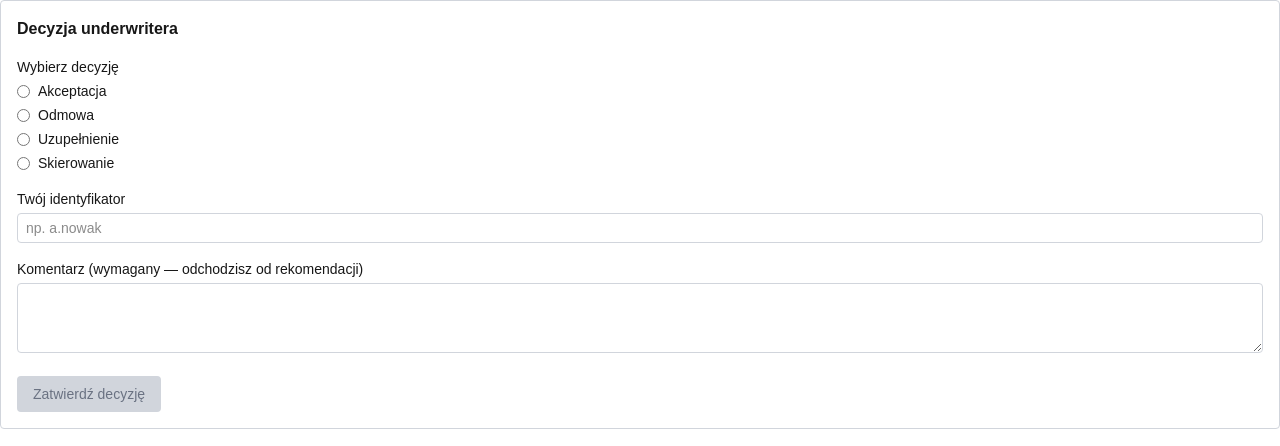
Test: DecisionForm › gdy wybrana decyzja ODBIEGA od rekomendacji LUB silnika - komentarz wymagany, przycisk zablokowany bez komentarza, odblokowany po jego wpisaniu
The image size is (1280, 446).
Click the radio button labelled "Akceptacja": [24, 91] box top-left (17, 84), bottom-right (30, 98)
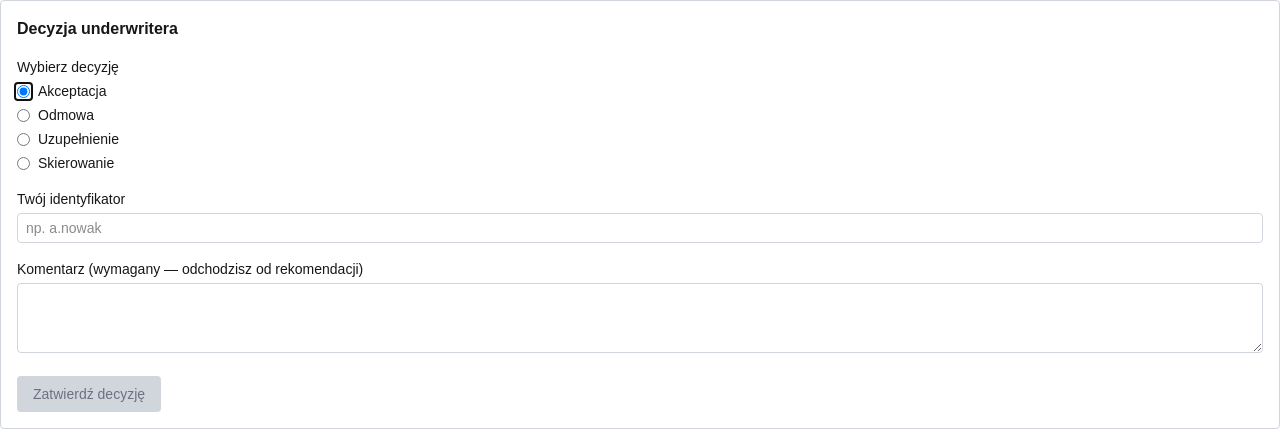
In the field labelled "Twój identyfikator": [640, 228] box top-left (17, 213), bottom-right (1263, 243), type "test.manual"
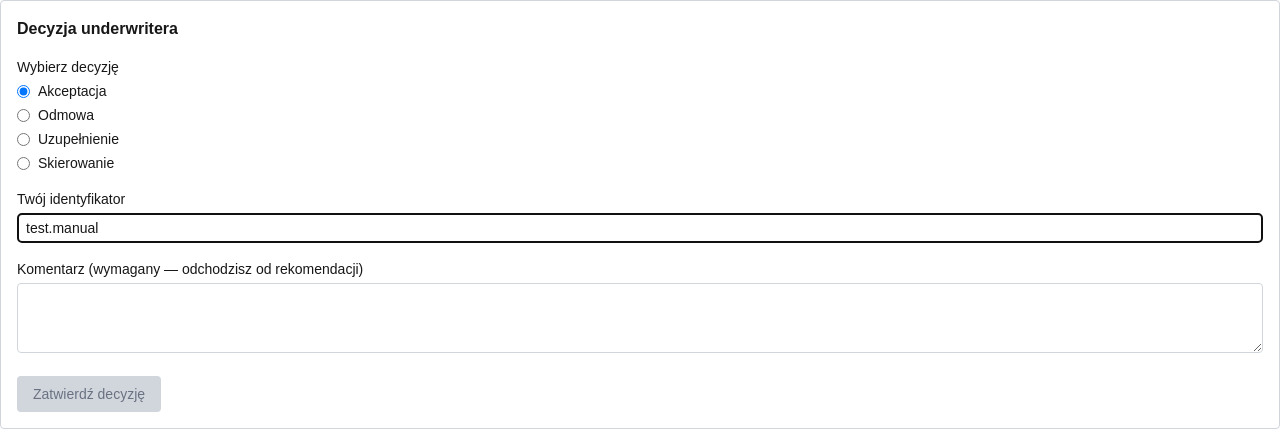
Expected: the text "Komentarz (wymagany — odchodzisz od rekomendacji)" is shown, top-left (17, 261), bottom-right (363, 277)
Expected: the button "Zatwierdź decyzję" is disabled, top-left (17, 376), bottom-right (161, 412)
In the text box labelled "Komentarz (wymagany — odchodzisz od rekomendacji)": [640, 318] box top-left (17, 283), bottom-right (1263, 353), type "Odstępuję, bo klient ma dodatkowe zabezpieczenia."
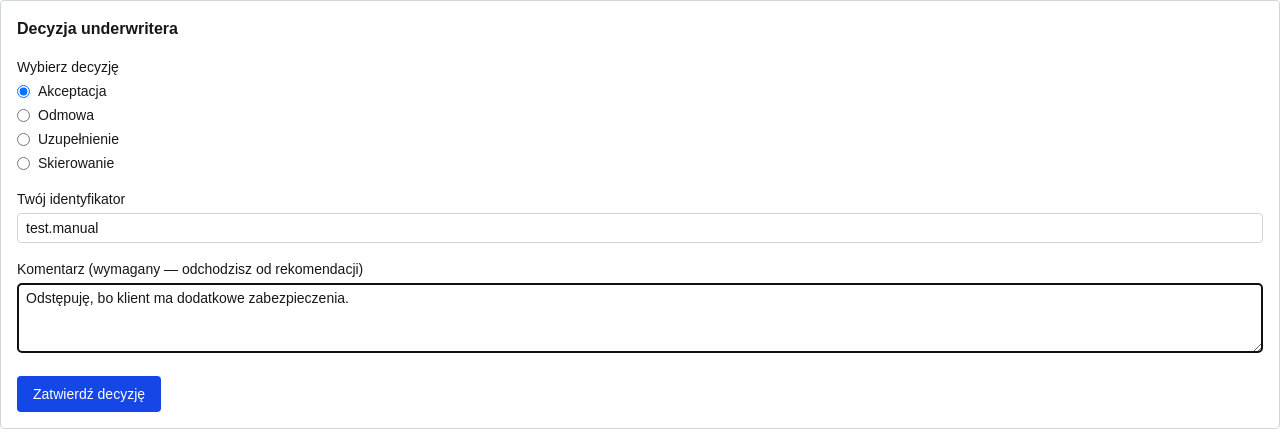
Now the button "Zatwierdź decyzję" is enabled, box top-left (17, 376), bottom-right (161, 412)
